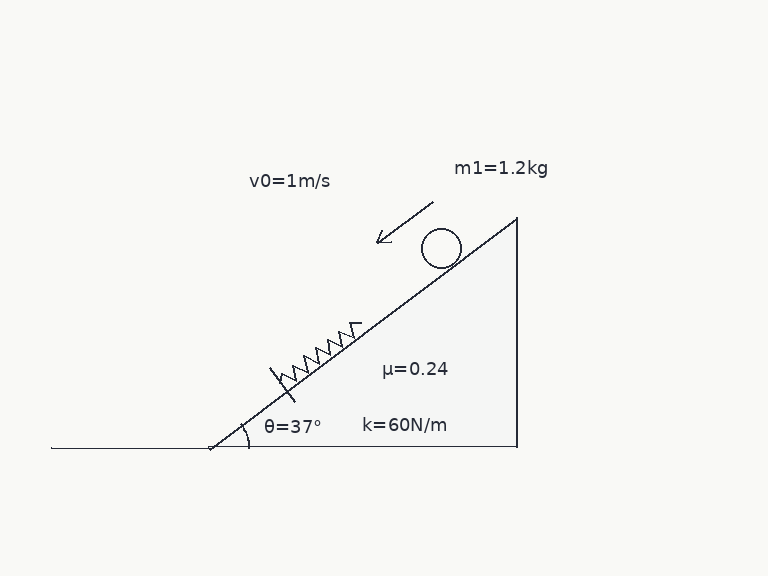ball: (419, 226, 463, 270)
ramp: (207, 214, 518, 450)
spring: (278, 319, 362, 385)
